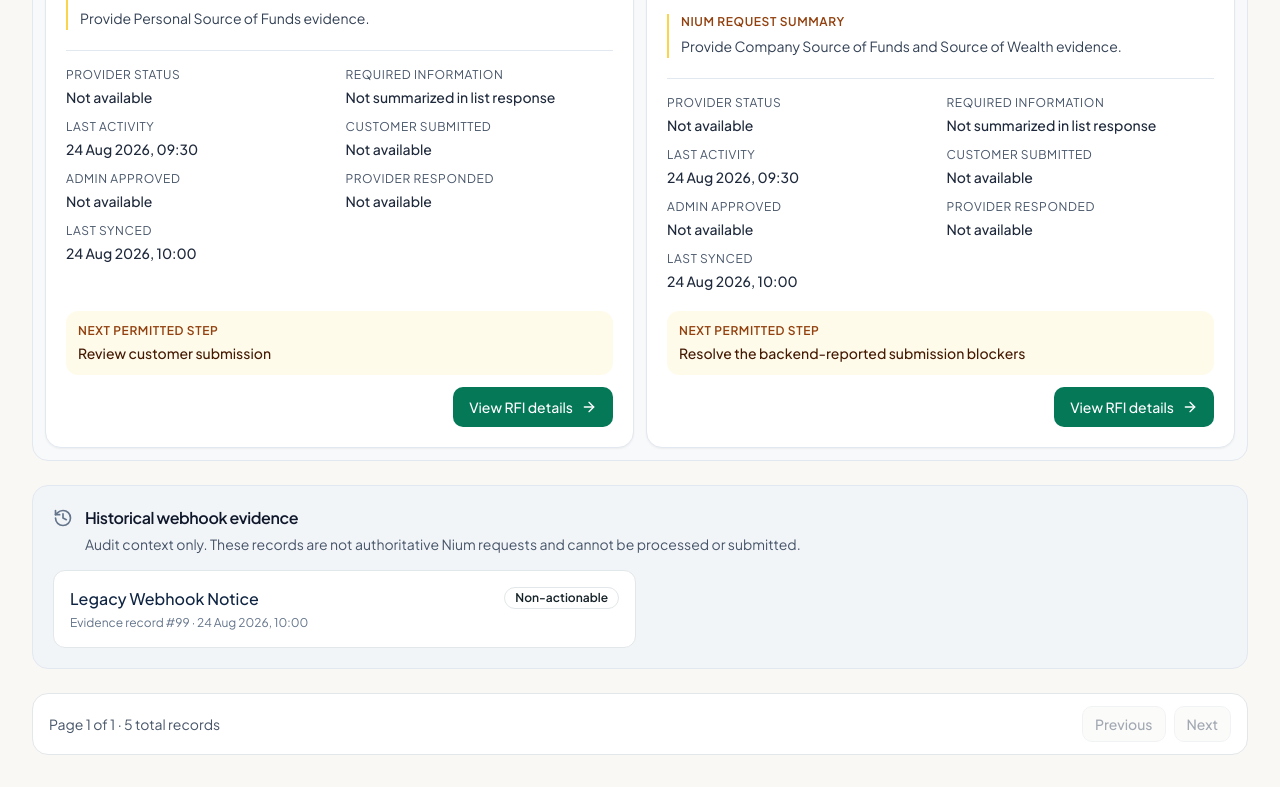
Test: offers customer review actions without treating approval as provider submission
This screenshot has width=1280, height=787.
(page scrolled)
Click the button "View RFI details" below "Review customer submission": (533, 407) left=453, top=387, right=613, bottom=427
(page scrolled)
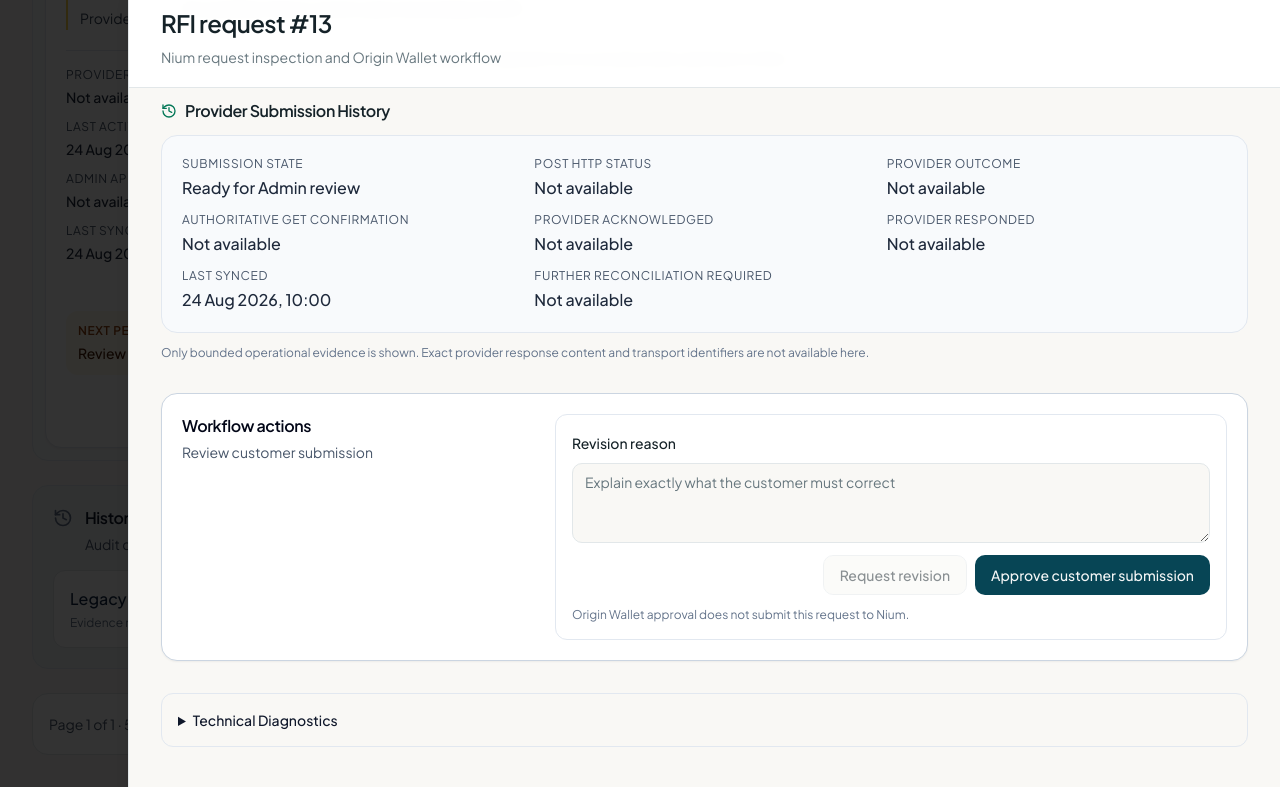
Now the button "Approve customer submission" is enabled, box left=975, top=555, right=1210, bottom=595
Now the text "Origin Wallet approval does not submit this request to Nium." is shown, box left=572, top=607, right=909, bottom=622
